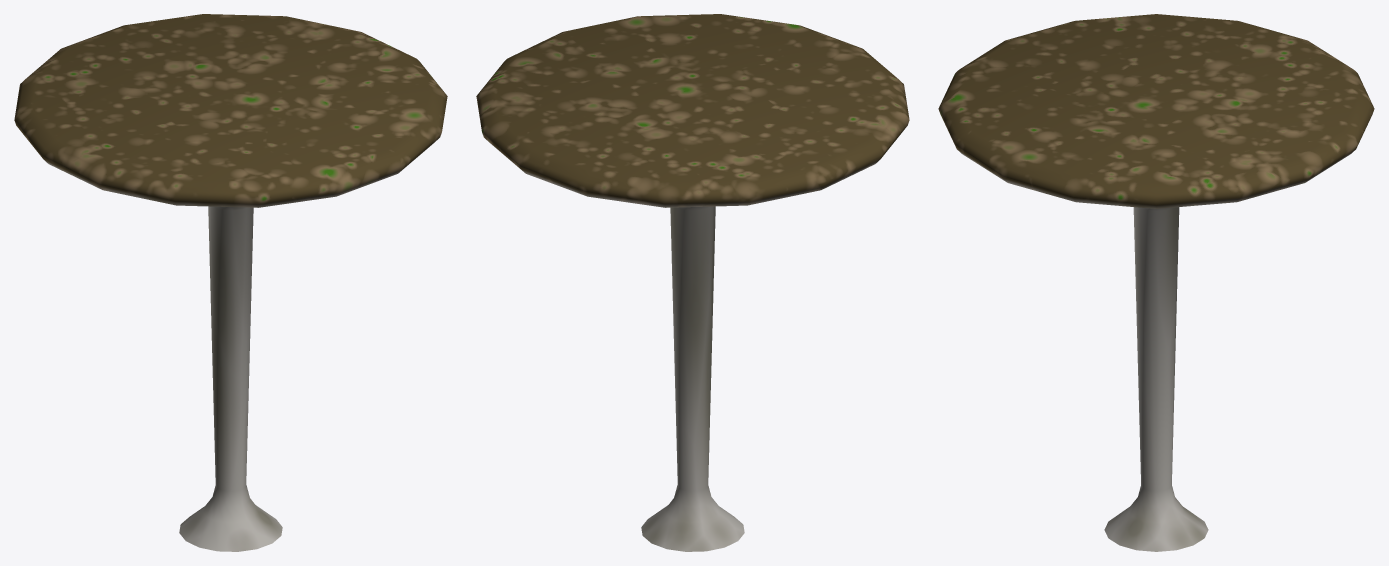
File: Tall Mushroom.fbx
3 views of the same model, side by side, from view 1: azimuth 30°, elevation 25°; view 2: azimuth 150°, elevation 25°; view 3: azimuth 270°, elevation 25° (orthographic).
Parts seen in each view (by area): view 1: tall Mushroom; view 2: tall Mushroom; view 3: tall Mushroom.
Boxes of the visible parts, box(x1,y1,x2,y2) form: tall Mushroom: box(14, 14, 447, 551); tall Mushroom: box(476, 14, 909, 551); tall Mushroom: box(938, 14, 1374, 551).
Bounding box in the file's own units: 6 × 6 × 6.54.
1 material, 1 textured.
